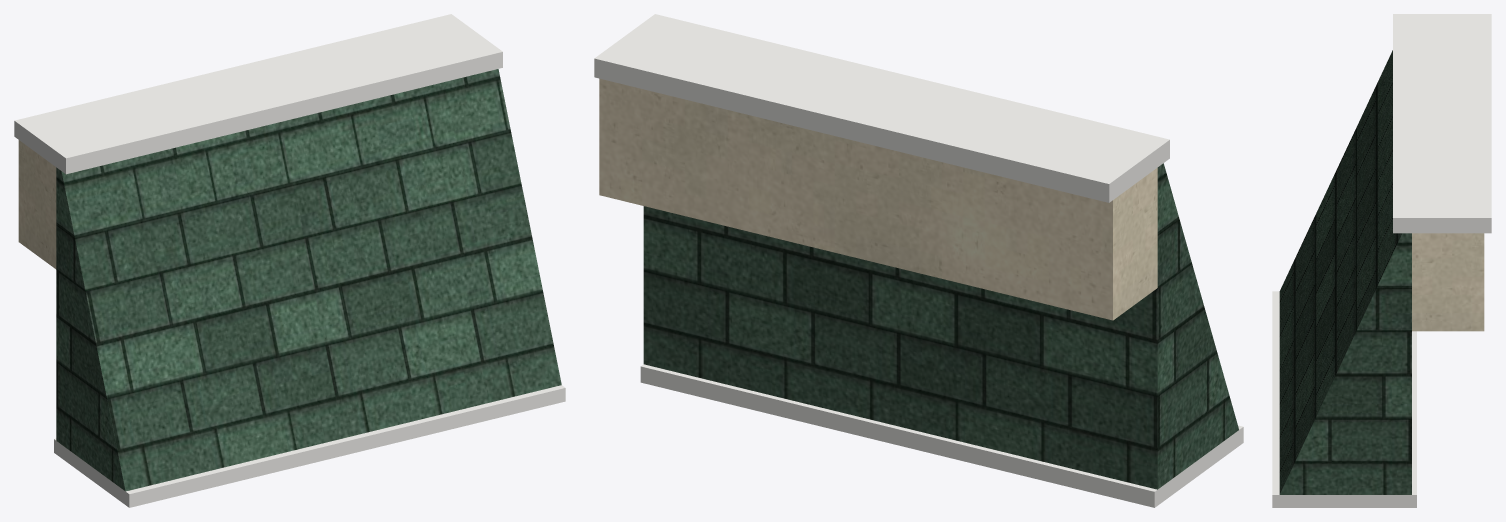
File: mansard.glb
3 renders of one model, left to right at view 1: azimuth 30°, elevation 25°; view 2: azimuth 150°, elevation 25°; view 3: azimuth 270°, elevation 25°, orthographic. The views are drawn at different scales.
Visible parts, largest first — view 1: mansard_shingle, mansard_trim, mansard_stucco; view 2: mansard_shingle, mansard_stucco, mansard_trim; view 3: mansard_shingle, mansard_trim, mansard_stucco.
Boxes of the visible parts, bbox=[...] form: mansard_shingle: bbox=[56, 69, 561, 491]; mansard_trim: bbox=[14, 14, 565, 507]; mansard_stucco: bbox=[18, 140, 56, 269]; mansard_shingle: bbox=[643, 163, 1238, 489]; mansard_stucco: bbox=[599, 78, 1157, 320]; mansard_trim: bbox=[594, 14, 1243, 507]; mansard_shingle: bbox=[1279, 50, 1411, 494]; mansard_trim: bbox=[1272, 14, 1491, 507]; mansard_stucco: bbox=[1412, 233, 1484, 331].
Size of the model in its own units: 2 by 1.33 by 0.91.
3 materials, 2 textured.
